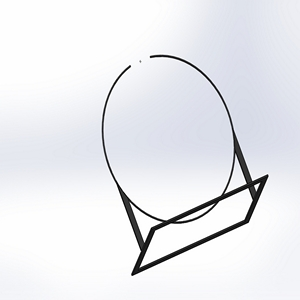circle: (100, 50, 267, 276)
